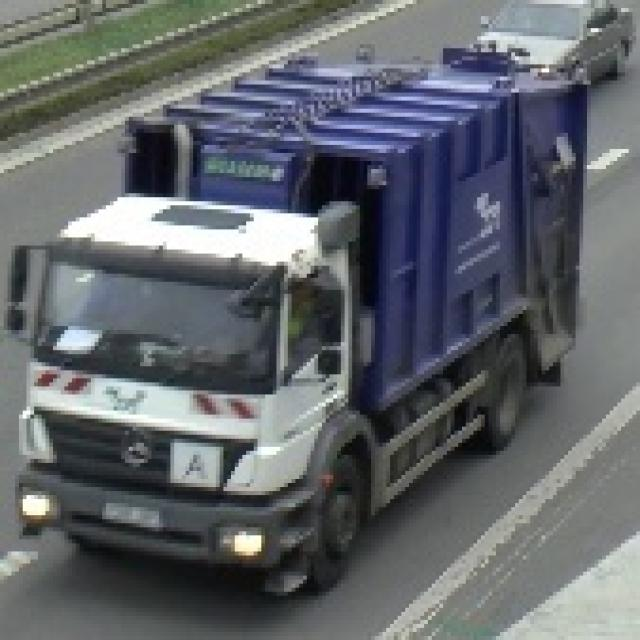truck: (0, 40, 583, 612)
